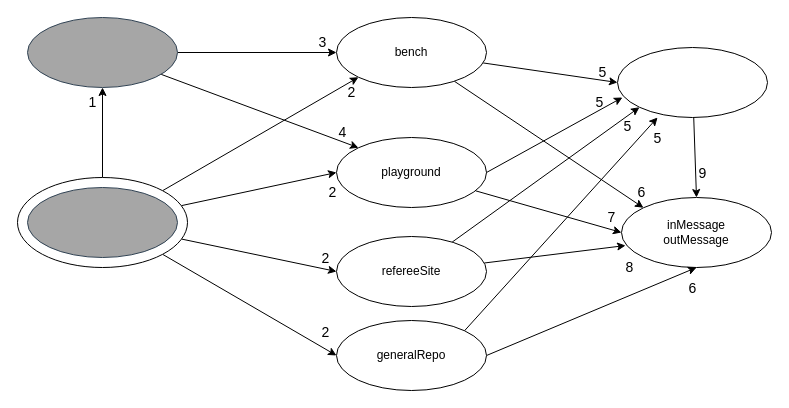
This 789x408 diagram has some shape labels left out. Each missing label, with the centre of its shape:
ClientReferee: point 102,222
com: point 692,82
Referee: point 102,52
